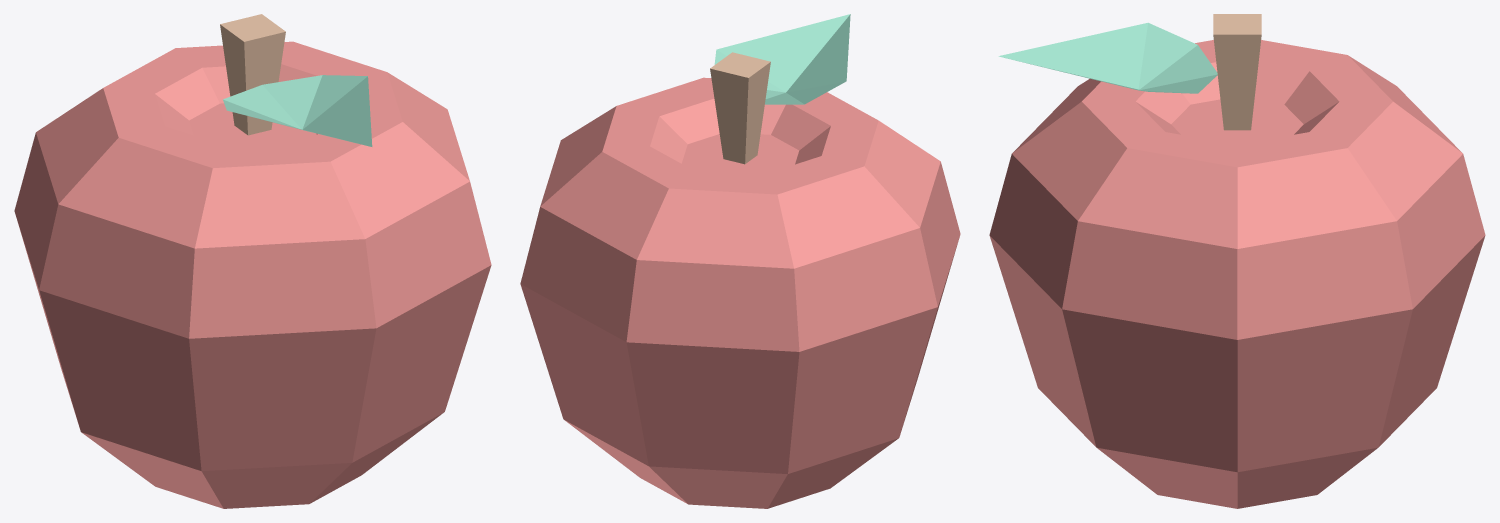
Rendered from food.glb.
3 views of the same model, side by side, from view 1: azimuth 30°, elevation 25°; view 2: azimuth 150°, elevation 25°; view 3: azimuth 270°, elevation 25° (orthographic). The views are drawn at different scales.
Parts seen in each view (by area): view 1: apple; view 2: apple; view 3: apple.
Part boxes in pixels (x1=…): apple: x1=14, y1=14, x2=491, y2=508; apple: x1=520, y1=14, x2=960, y2=508; apple: x1=989, y1=14, x2=1485, y2=508.
Bounding box in the file's own units: 0.5889 × 0.5723 × 0.5889.
